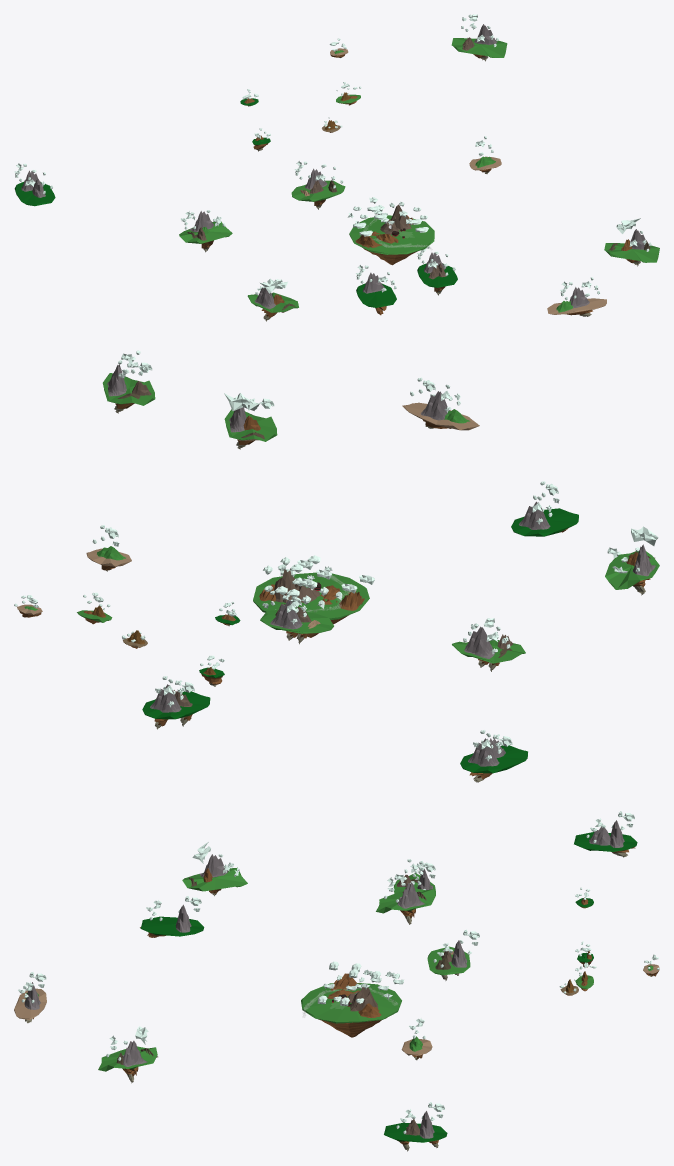
The model's file is inselnTimAll.fbx.
The picture shows the model from 3 angles, top to bottom: view 1: azimuth 30°, elevation 25°; view 2: azimuth 150°, elevation 25°; view 3: azimuth 270°, elevation 25°; orthographic projection. The views are drawn at different scales.
Parts seen in each view (by area): view 1: Ground, Ground_2_2, Ground_2_3, Ground_2_8, Ground_2_5, Ground_2_4, Ground_2_7, Ground_2_6; view 2: Ground, Ground_2_8, Ground_2, Ground_2_7, Ground_2_6, Ground_2_2, Ground_2_5, Ground_2_3, Ground_2_9; view 3: Ground, Ground_2_8, Ground_2, Ground_2_6, Ground_2_3, Ground_2_2, Ground_2_7, Ground_2_5, Ground_2_9.
Boxes of the visible parts, x1,y1,x2,y2 form: Ground: (349,215,434,254); Ground_2_2: (604,243,659,262); Ground_2_3: (451,38,507,57); Ground_2_8: (356,283,396,307); Ground_2_5: (291,180,345,201); Ground_2_4: (179,221,232,243); Ground_2_7: (14,182,55,206); Ground_2_6: (417,263,457,287); Ground: (253,572,369,619); Ground_2_8: (511,508,578,536); Ground_2: (605,551,659,589); Ground_2_7: (460,745,527,773); Ground_2_6: (142,691,210,719); Ground_2_2: (224,409,277,441); Ground_2_5: (260,610,333,633); Ground_2_3: (102,373,155,405); Ground_2_9: (402,402,479,430); Ground: (301,983,401,1023); Ground_2_8: (140,916,204,936); Ground_2: (182,867,247,891); Ground_2_6: (384,1122,447,1142); Ground_2_3: (376,888,435,913); Ground_2_2: (98,1046,157,1071); Ground_2_7: (574,832,637,851); Ground_2_5: (427,946,470,975); Ground_2_9: (14,988,46,1020).
Bounding box in the file's own units: 52164 × 31671 × 59610.
